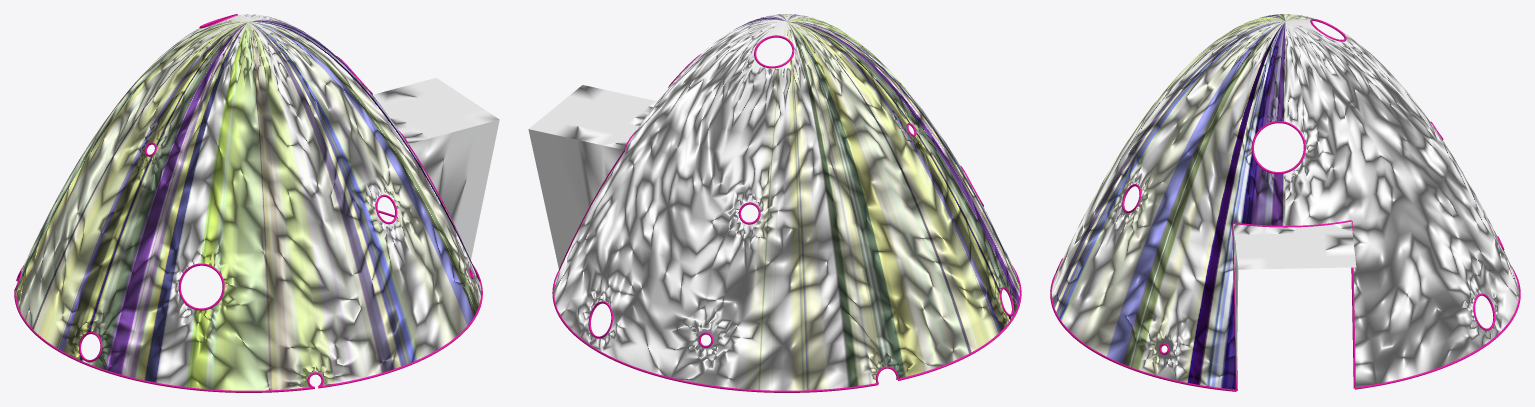
3 views of the same model, side by side, from view 1: azimuth 30°, elevation 25°; view 2: azimuth 150°, elevation 25°; view 3: azimuth 270°, elevation 25° (orthographic).
Parts seen in each view (by area): view 1: Solids, Solids_2, Canopy, Openings, Canopy_2; view 2: Solids, Solids_2, Canopy, Openings, Canopy_2; view 3: Solids, Solids_2, Canopy, Openings, Canopy_2.
Boxes of the visible parts, <box> form: Solids: <box>16,14,480,390</box>; Solids_2: <box>17,15,481,390</box>; Canopy: <box>373,77,499,259</box>; Openings: <box>14,14,482,392</box>; Canopy_2: <box>373,78,497,228</box>; Solids: <box>554,14,1019,390</box>; Solids_2: <box>554,14,1019,390</box>; Canopy: <box>528,85,657,257</box>; Openings: <box>552,35,1021,392</box>; Canopy_2: <box>532,85,655,268</box>; Solids: <box>1051,14,1519,389</box>; Solids_2: <box>1052,14,1518,388</box>; Canopy: <box>1233,221,1356,382</box>; Openings: <box>1050,18,1520,391</box>; Canopy_2: <box>1233,222,1355,328</box>.
Bounding box in the file's own units: 13.32 × 8.05 × 12.55.
Materials: 3 (3 with a texture image).
